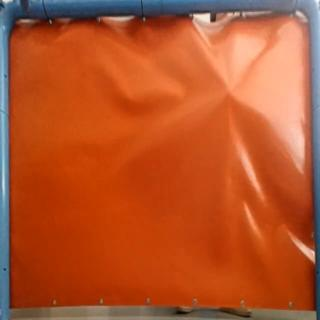Hit-hRxx: (223, 87, 237, 99)
